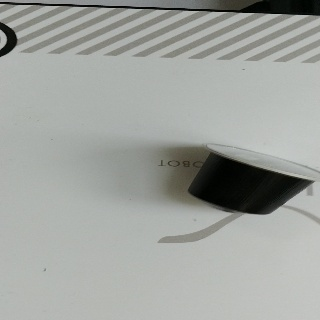capsule_10: (186, 141, 320, 216)
